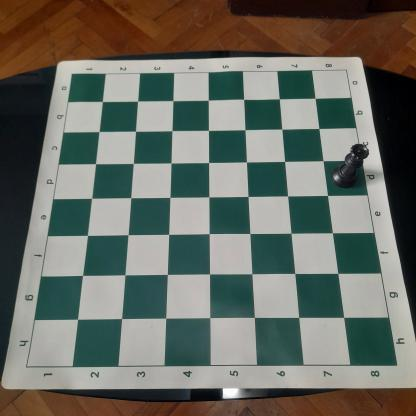black-queen: (329, 141, 370, 190)
